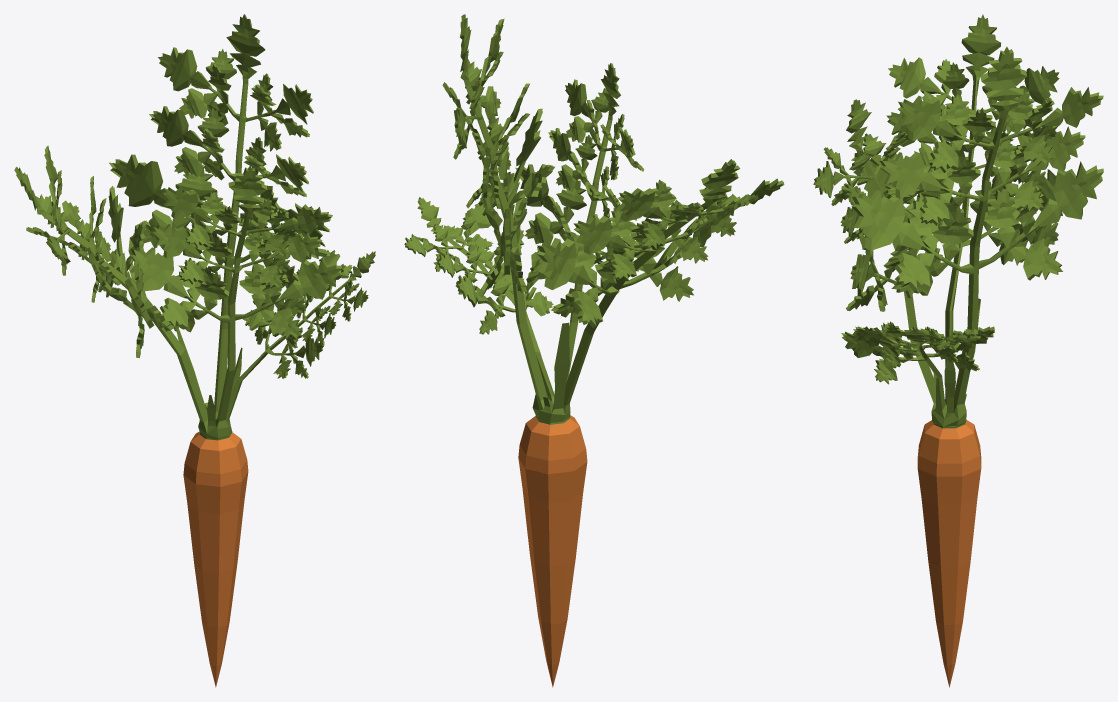
The model's file is mod_Carrot.fbx.
The picture shows the model from 3 angles, left to right: view 1: azimuth 30°, elevation 25°; view 2: azimuth 150°, elevation 25°; view 3: azimuth 270°, elevation 25°; orthographic projection. The views are drawn at different scales.
Parts seen in each view (by area): view 1: Carrot; view 2: Carrot; view 3: Carrot.
Boxes of the visible parts, left/top/right/bottom form: Carrot: left=14, top=14, right=375, bottom=687; Carrot: left=404, top=14, right=784, bottom=687; Carrot: left=813, top=14, right=1103, bottom=687.
Bounding box in the file's own units: 434 × 793 × 312.
